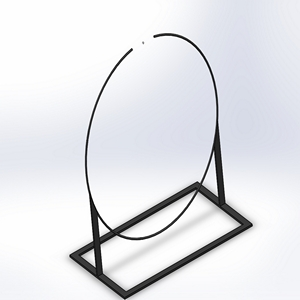circle: (68, 32, 254, 299)
